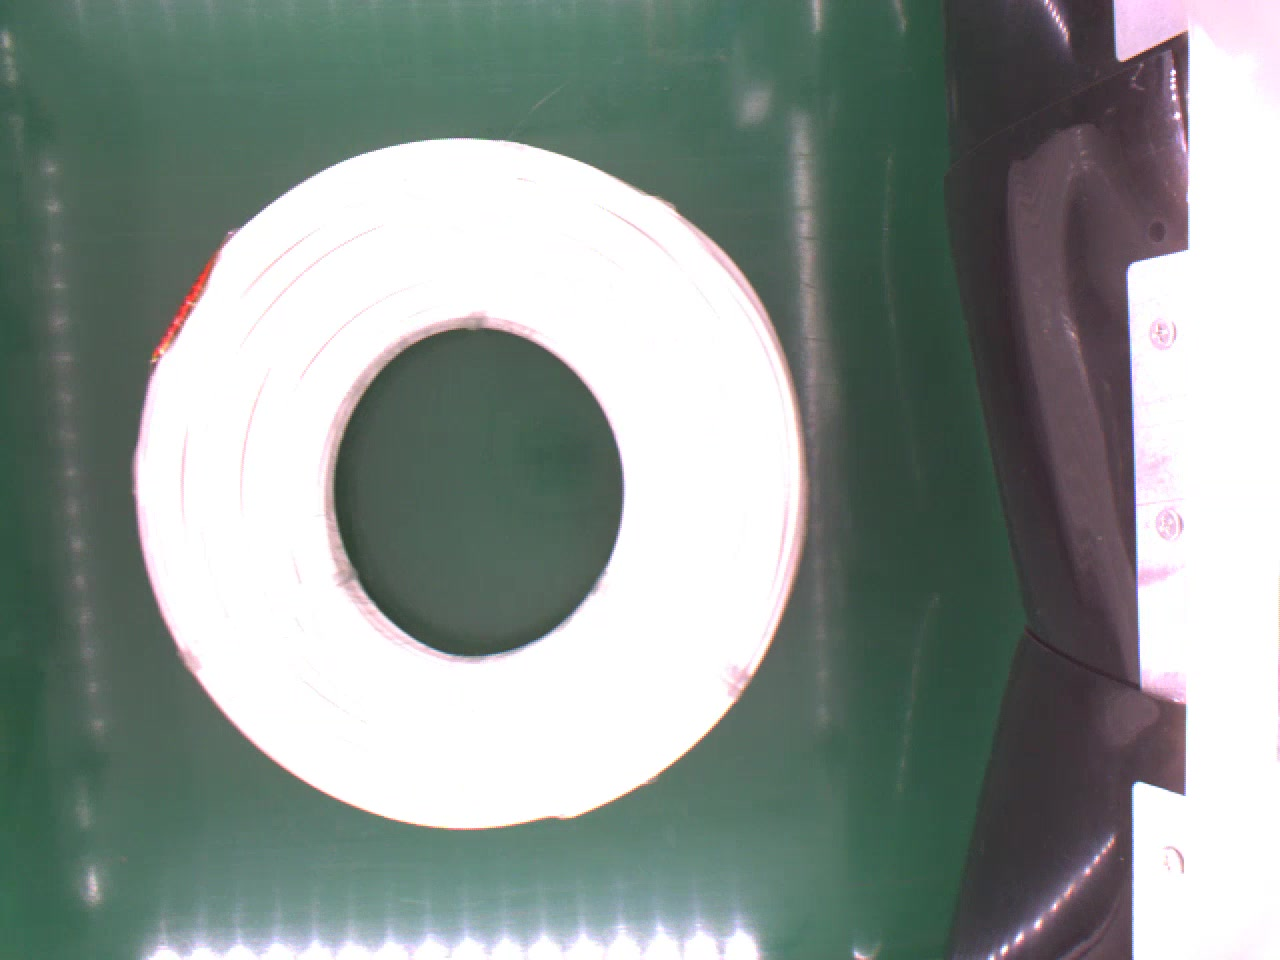white: (128, 128, 828, 830)
